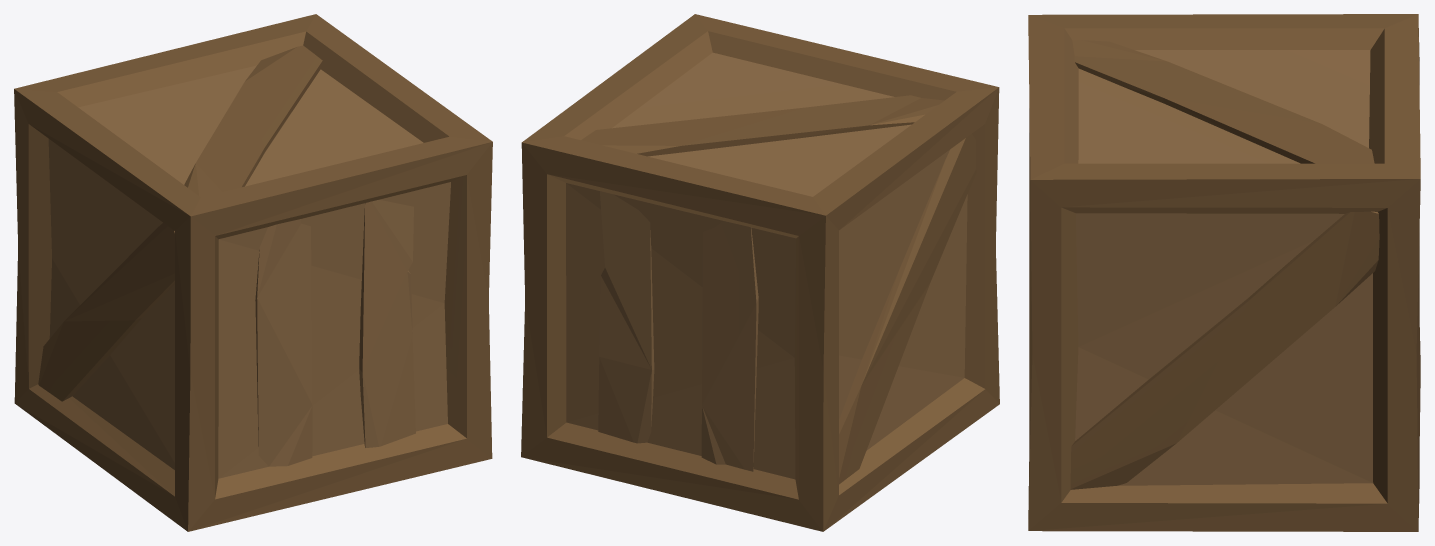
3 views of the same model, side by side, from view 1: azimuth 30°, elevation 25°; view 2: azimuth 150°, elevation 25°; view 3: azimuth 270°, elevation 25° (orthographic). The views are drawn at different scales.
Visible parts, largest first — view 1: SM_Box_03; view 2: SM_Box_03; view 3: SM_Box_03.
Part boxes in pixels (x1=…): SM_Box_03: x1=14, y1=14, x2=492, y2=531; SM_Box_03: x1=521, y1=14, x2=999, y2=531; SM_Box_03: x1=1028, y1=14, x2=1420, y2=531.
Size of the model in its own units: 0.9129 by 0.9087 by 0.9131.
Materials: 1 (1 with a texture image).
